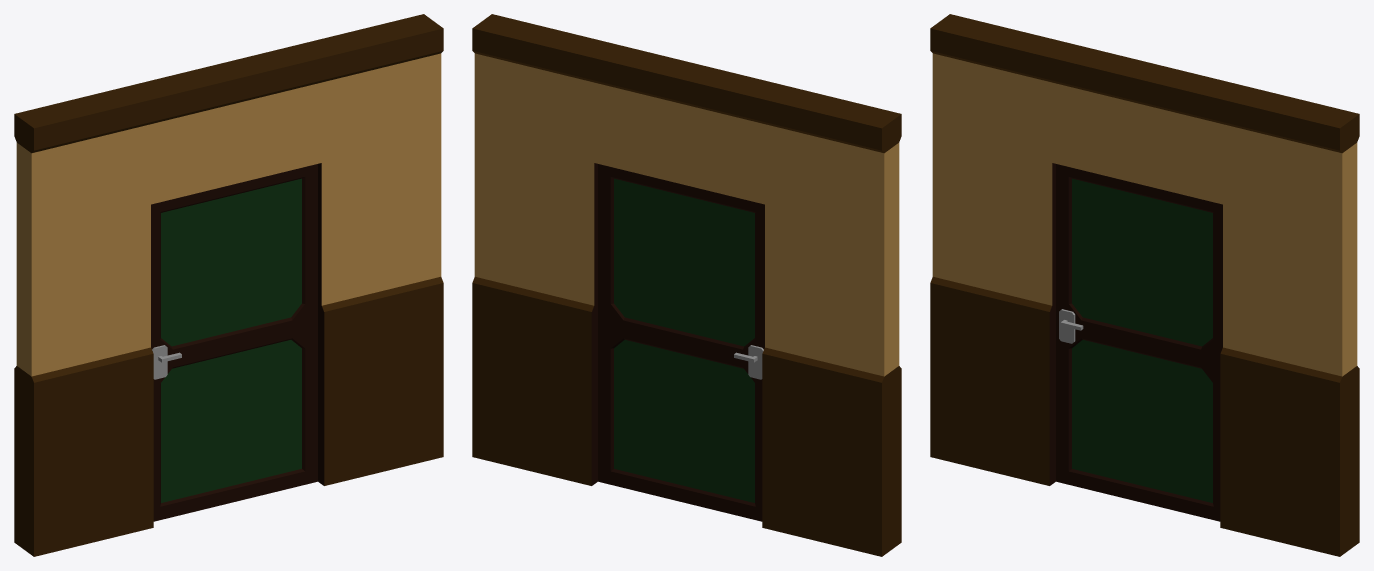
The model's file is Classic_WallDoor_01_snaps001.fbx.
The picture shows the model from 3 angles, left to right: view 1: azimuth 30°, elevation 25°; view 2: azimuth 150°, elevation 25°; view 3: azimuth 330°, elevation 25°; orthographic projection.
Parts seen in each view (by area): view 1: Classic_WallDoor_01_snaps001; view 2: Classic_WallDoor_01_snaps001; view 3: Classic_WallDoor_01_snaps001.
Boxes of the visible parts, bbox=[...] form: Classic_WallDoor_01_snaps001: bbox=[14, 14, 443, 556]; Classic_WallDoor_01_snaps001: bbox=[472, 14, 901, 556]; Classic_WallDoor_01_snaps001: bbox=[930, 14, 1359, 556].
Size of the model in its own units: 300 by 300 by 25.
